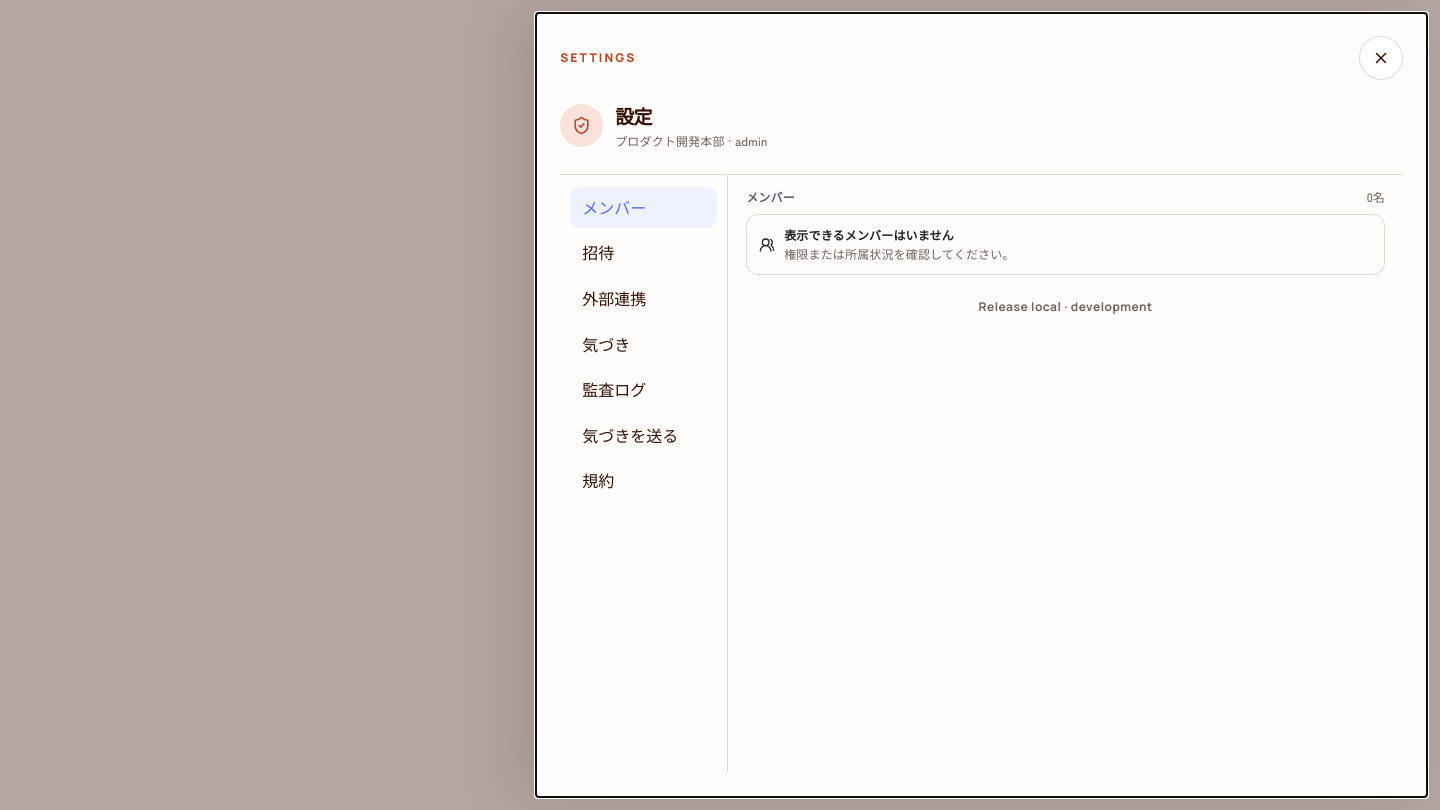
Test: OperationsPanel invitation administration › sends an invite email from the operations form
This screenshot has width=1440, height=810.
Click the button "招待" at (644, 253), box [570,232,717,274]
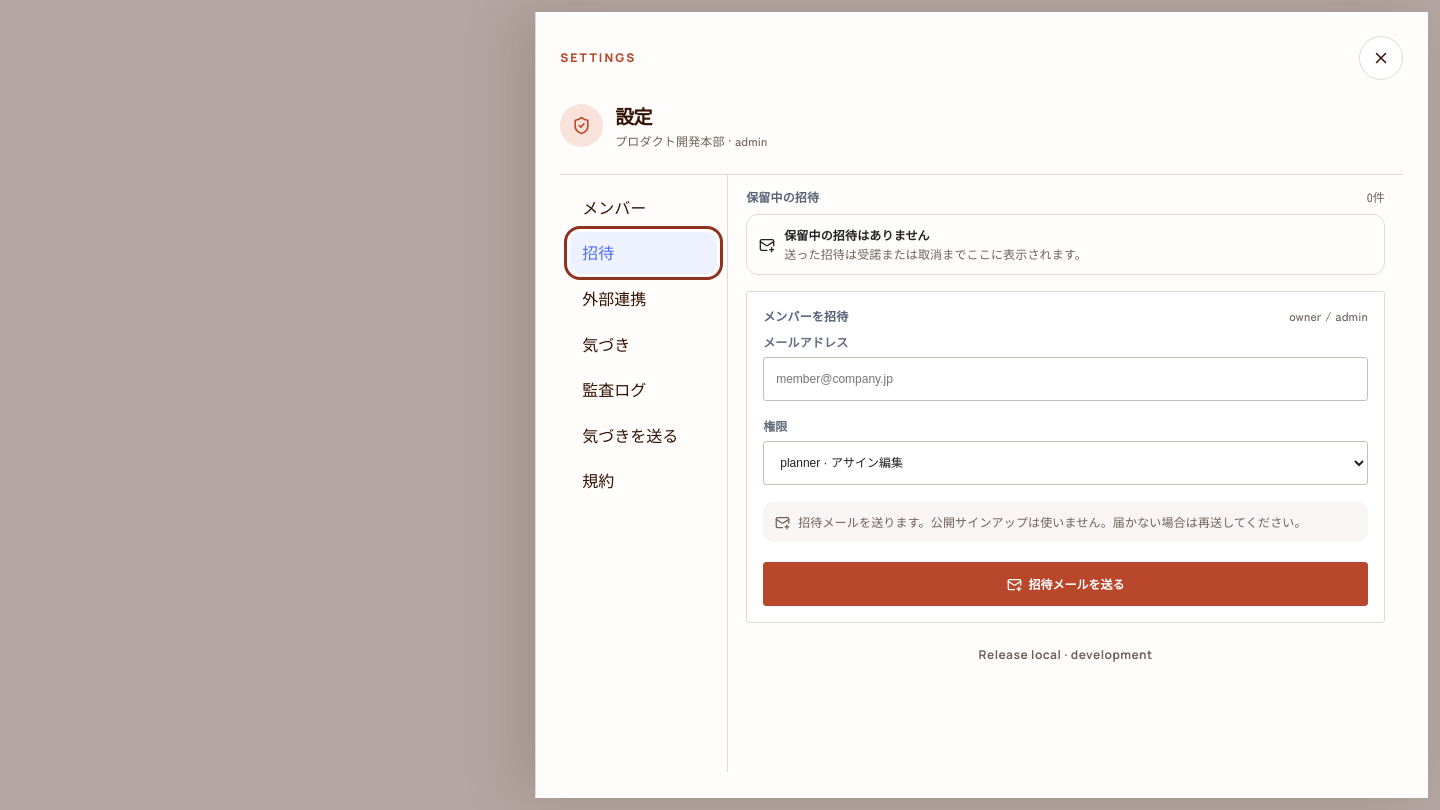
Type "new.member@example.jp" into the field labelled "メールアドレス" at (1066, 379), box [763,357,1368,401]
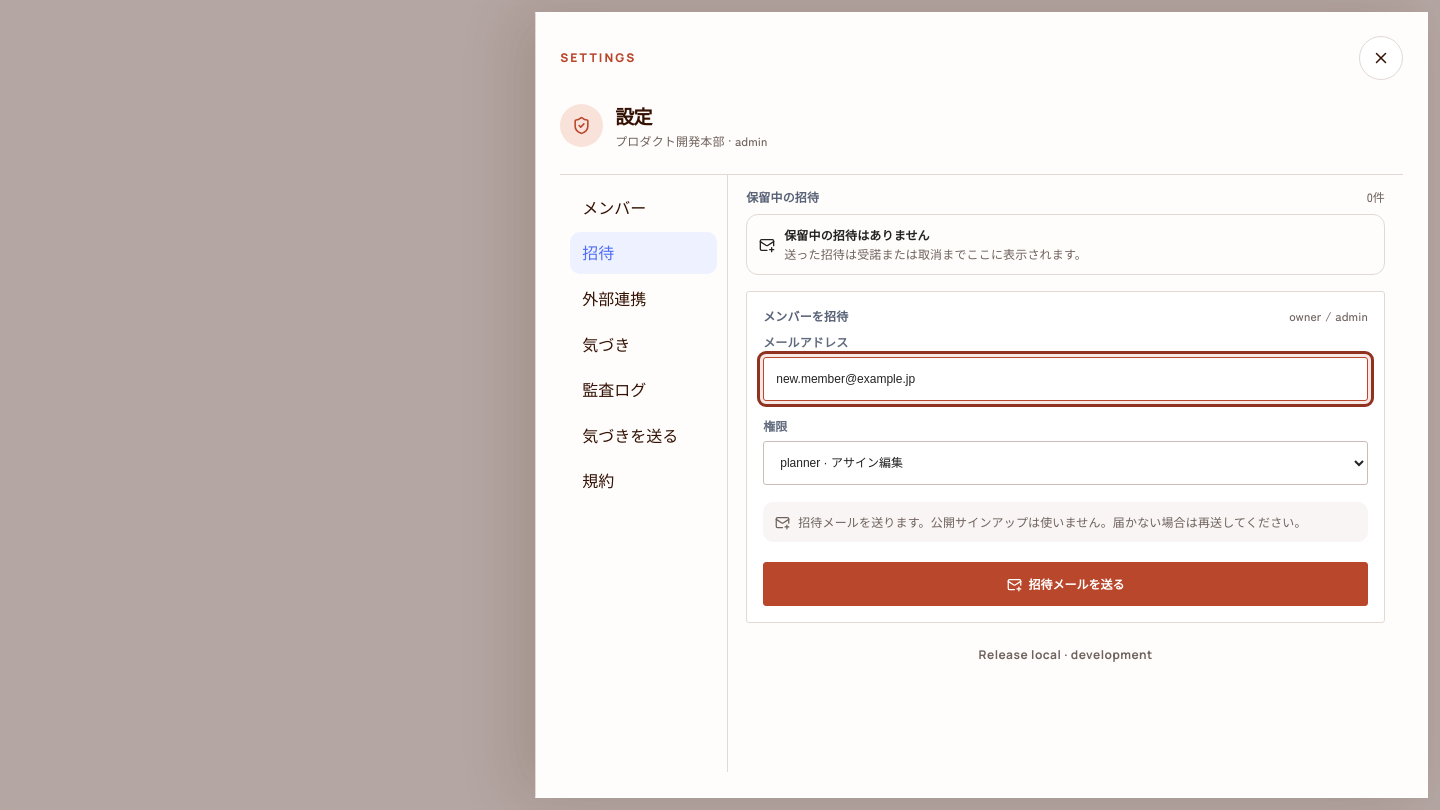
Click the button "招待メールを送る" at (1066, 584), box [763,562,1368,606]
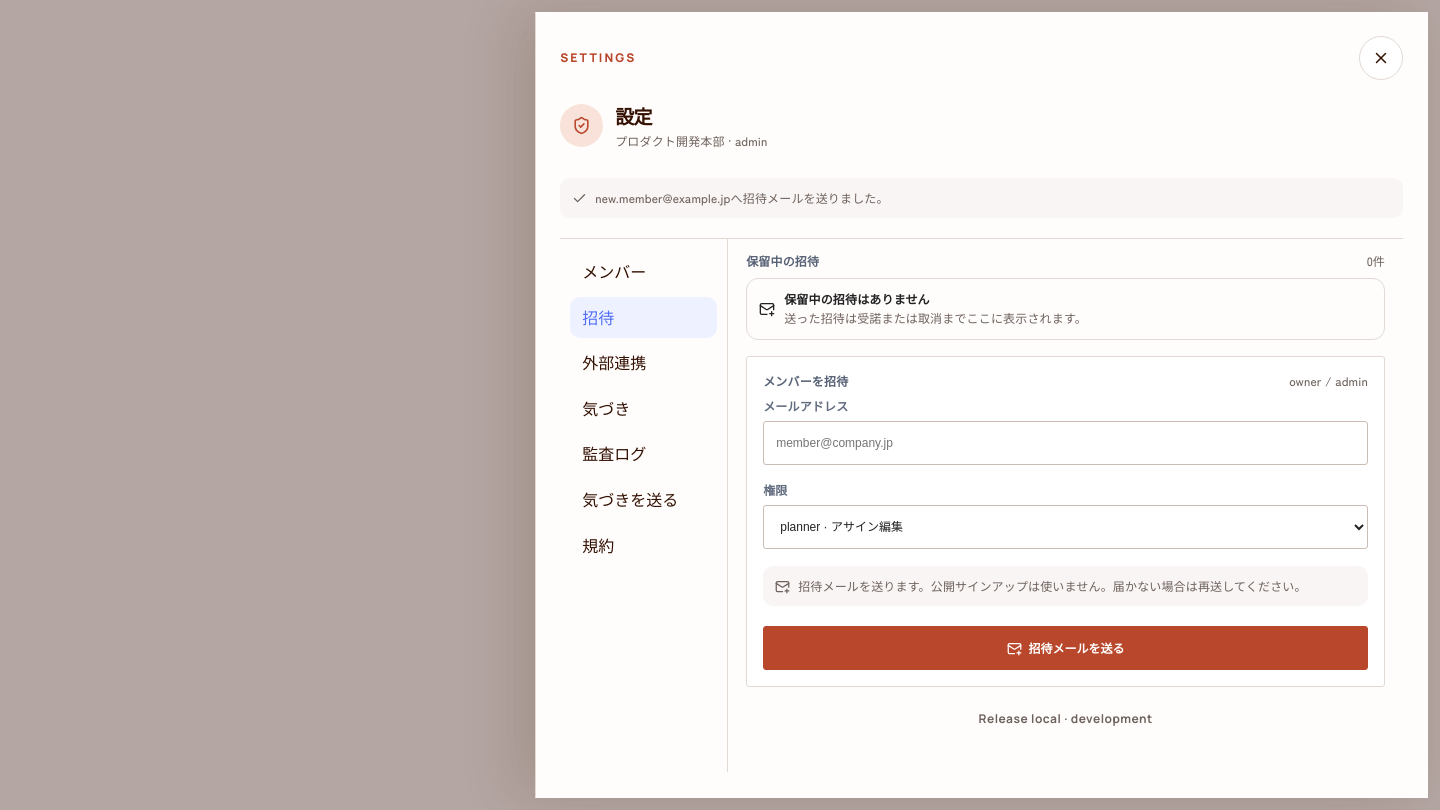
Expected: the message shows "招待メールを送りました", [595,189,889,206]
